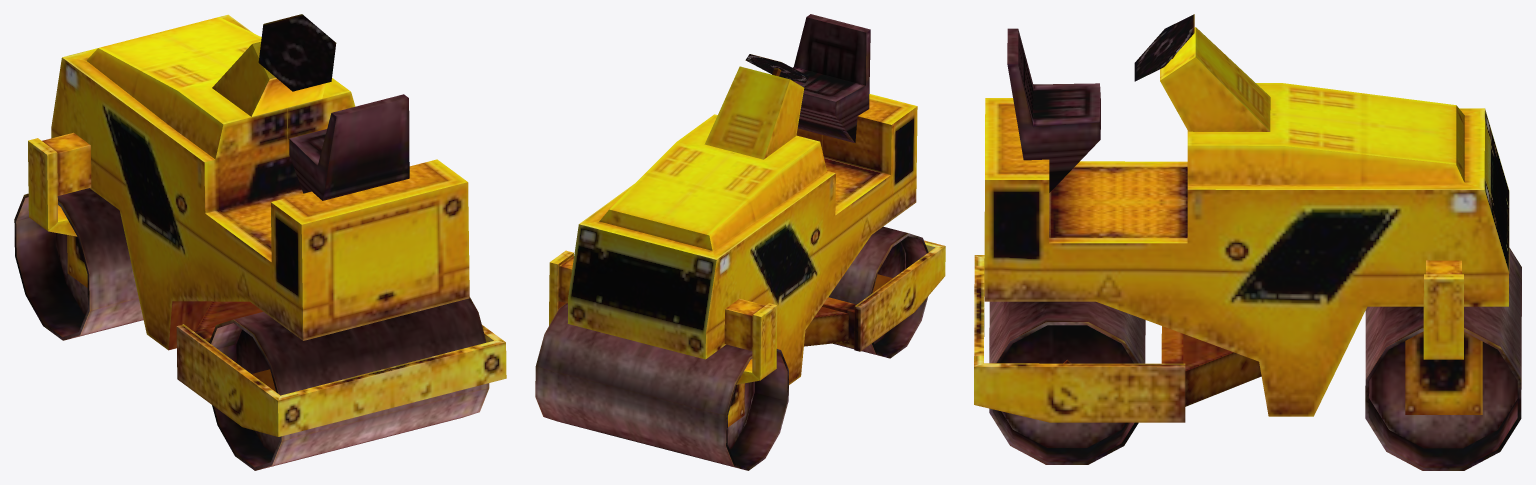
File: p54_53_road_roller_yellow.glb
3 views of the same model, side by side, from view 1: azimuth 30°, elevation 25°; view 2: azimuth 150°, elevation 25°; view 3: azimuth 270°, elevation 25° (orthographic). The views are drawn at different scales.
Visible parts, largest first — view 1: Body; view 2: Body; view 3: Body.
Part boxes in pixels (x1=…): Body: x1=14, y1=14, x2=506, y2=470; Body: x1=535, y1=14, x2=945, y2=470; Body: x1=974, y1=14, x2=1521, y2=470.
Bounding box in the file's own units: 1.37 × 1.91 × 2.44.
1 material, 1 textured.
